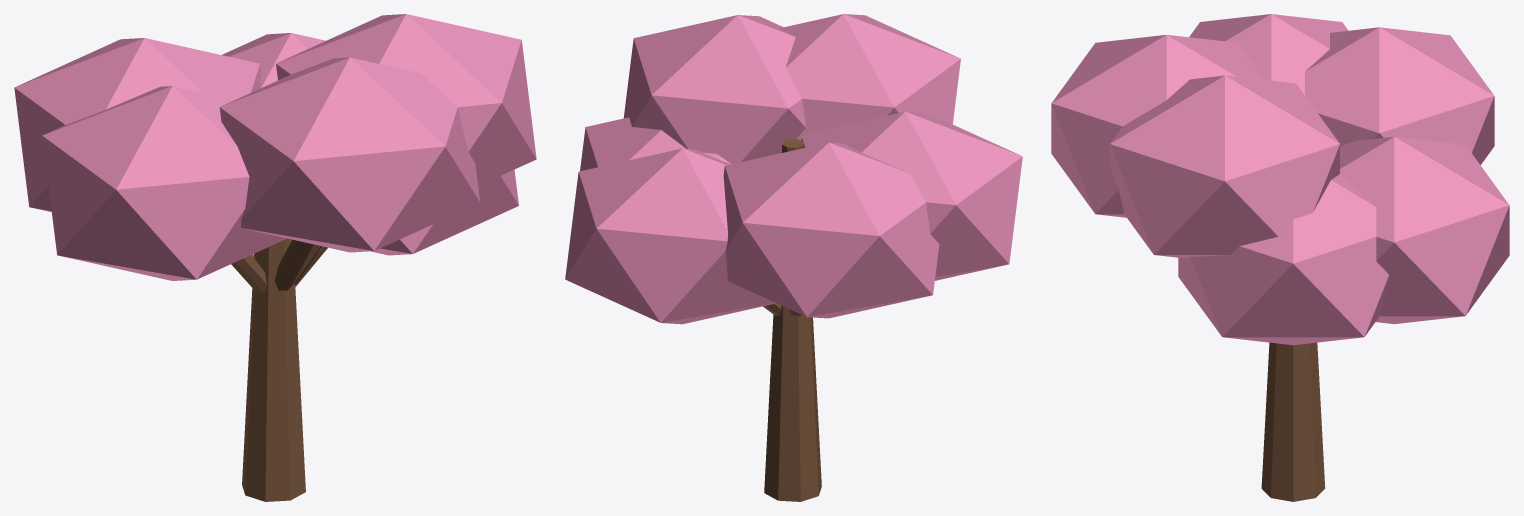
File: nature_cherry_pink.glb
3 views of the same model, side by side, from view 1: azimuth 30°, elevation 25°; view 2: azimuth 150°, elevation 25°; view 3: azimuth 270°, elevation 25° (orthographic). The views are drawn at different scales.
Parts seen in each view (by area): view 1: nature_cherry_pink; view 2: nature_cherry_pink; view 3: nature_cherry_pink.
Part boxes in pixels (bbox=[...]): nature_cherry_pink: bbox=[14, 14, 536, 501]; nature_cherry_pink: bbox=[565, 14, 1022, 501]; nature_cherry_pink: bbox=[1051, 14, 1509, 501].
Size of the model in its own units: 3.2 by 3.18 by 2.88.
